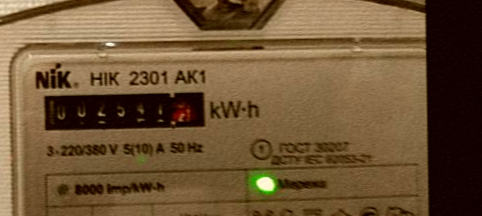0: (55, 100, 68, 121), (76, 98, 88, 119)
1: (155, 98, 166, 118)
2: (96, 98, 108, 119)
4: (136, 97, 148, 118)
5: (115, 97, 127, 119)
6: (177, 109, 188, 124)
screen: (34, 83, 217, 140)
